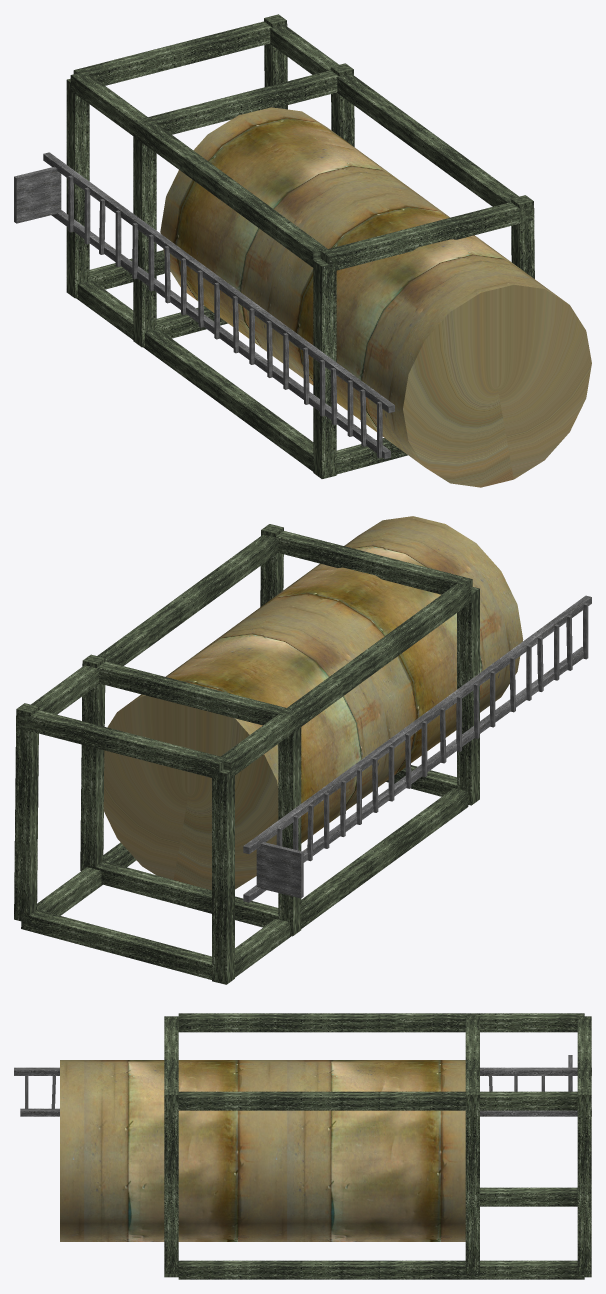
Rendered from silo.glb.
The picture shows the model from 3 angles, top to bottom: view 1: azimuth 30°, elevation 25°; view 2: azimuth 150°, elevation 25°; view 3: azimuth 270°, elevation 25°; orthographic projection. The views are drawn at different scales.
Visible parts, largest first — view 1: Silo; view 2: Silo; view 3: Silo.
Part boxes in pixels (box(x1,y1,x2,y2)): Silo: box(14, 14, 591, 487); Silo: box(14, 516, 591, 984); Silo: box(14, 1013, 591, 1279).
Size of the model in its own units: 1.32 by 1.04 by 2.85.
Materials: 40 (40 with a texture image).
